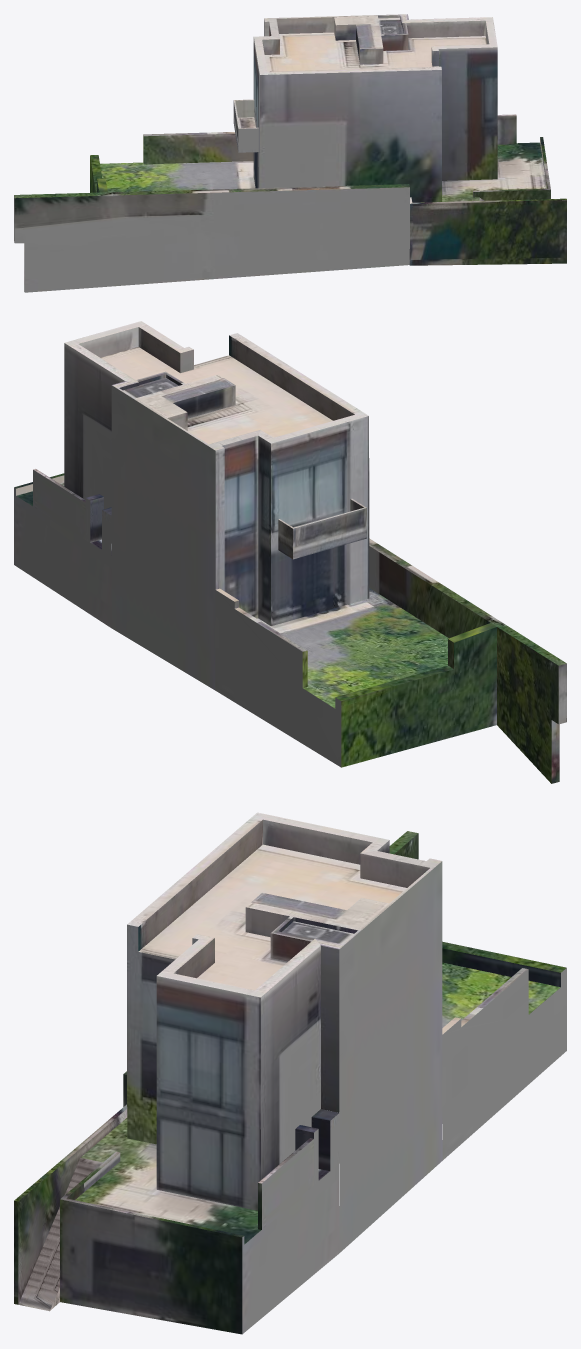
3 views of the same model, one above another, from view 1: azimuth 30°, elevation 25°; view 2: azimuth 150°, elevation 25°; view 3: azimuth 270°, elevation 25° (orthographic). The views are drawn at different scales.
Visible parts, largest first — view 1: B287524033101062A0; view 2: B287524033101062A0; view 3: B287524033101062A0.
Part boxes in pixels (left/top/right/bottom): B287524033101062A0: left=14, top=14, right=566, bottom=292; B287524033101062A0: left=14, top=321, right=566, bottom=783; B287524033101062A0: left=14, top=812, right=566, bottom=1334.
Bounding box in the file's own units: 32.16 × 13.08 × 19.91.
Materials: 1 (1 with a texture image).
